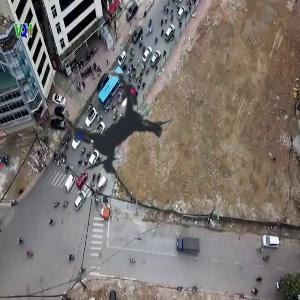drone: (19, 37, 211, 229)
